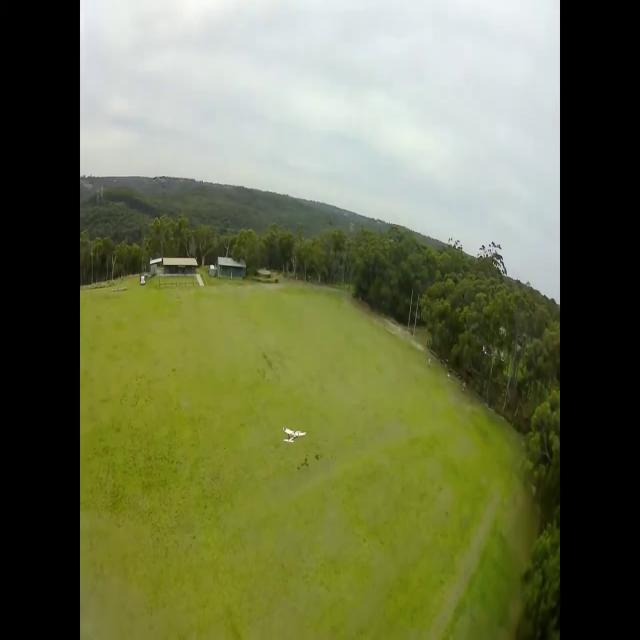iha: (284, 426, 308, 444)
